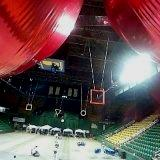Orange_Square_GShape: (90, 89, 105, 104)
Yellow_Circle_GShape: (80, 110, 87, 117)
Yellow_Square_GShape: (26, 103, 33, 111)
Yellow_Triangle_Gshape: (55, 108, 61, 116)
